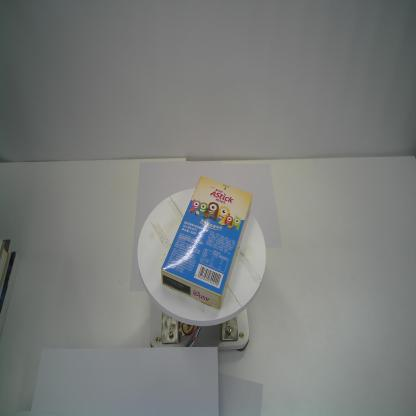Dessert: (160, 177, 253, 310)
